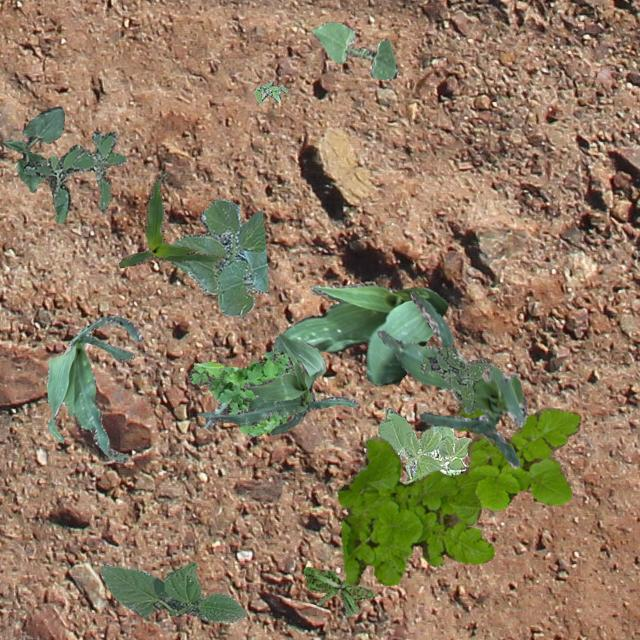crop: (204, 282, 446, 428), (376, 288, 526, 468), (198, 332, 358, 434), (46, 314, 142, 462), (170, 198, 268, 316), (118, 175, 222, 266), (100, 560, 246, 622), (378, 406, 470, 484), (1, 106, 64, 190), (310, 20, 398, 80)
weed: (336, 402, 580, 586), (20, 130, 124, 222), (188, 348, 292, 436), (420, 342, 490, 412), (302, 566, 373, 616), (254, 80, 286, 102)
